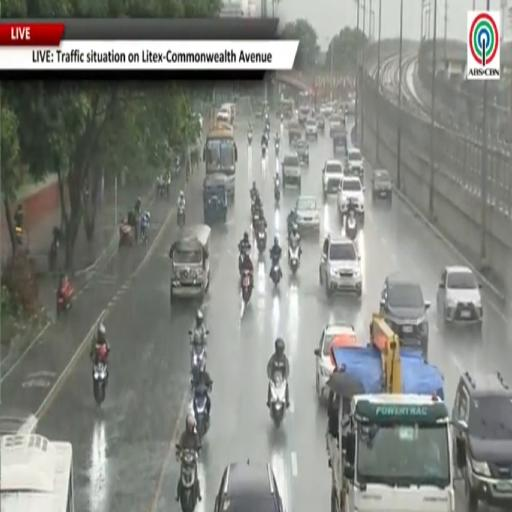bus: (0, 435, 74, 511), (203, 122, 237, 197)
car: (452, 372, 511, 510), (380, 275, 430, 360), (215, 461, 283, 511), (315, 324, 359, 401), (319, 234, 362, 297), (437, 266, 482, 325), (337, 176, 365, 220), (295, 197, 320, 232), (322, 159, 343, 198), (372, 169, 392, 204), (282, 153, 301, 189), (348, 148, 364, 184), (333, 131, 348, 159), (294, 139, 310, 165), (288, 120, 302, 145), (330, 115, 345, 138), (305, 118, 317, 139), (298, 105, 310, 123), (217, 108, 230, 122), (324, 102, 335, 117), (194, 112, 203, 130), (316, 115, 324, 133), (319, 104, 326, 116)
jeepney: (170, 224, 211, 302), (203, 174, 227, 225), (280, 100, 294, 119)
motorcycle: (176, 445, 198, 511), (193, 386, 209, 441), (270, 373, 286, 427), (93, 361, 107, 406), (57, 280, 73, 316), (48, 227, 61, 271), (191, 345, 206, 379), (119, 221, 135, 247), (289, 244, 300, 275), (242, 269, 252, 303), (270, 256, 281, 285), (140, 213, 150, 244), (346, 216, 357, 241), (256, 228, 266, 254), (15, 226, 26, 246), (157, 179, 167, 198), (177, 206, 185, 228), (252, 212, 260, 231), (274, 178, 280, 203), (239, 251, 245, 274), (251, 198, 257, 217), (275, 141, 279, 156), (262, 144, 266, 157), (248, 132, 252, 145)
truck: (327, 315, 455, 511)
